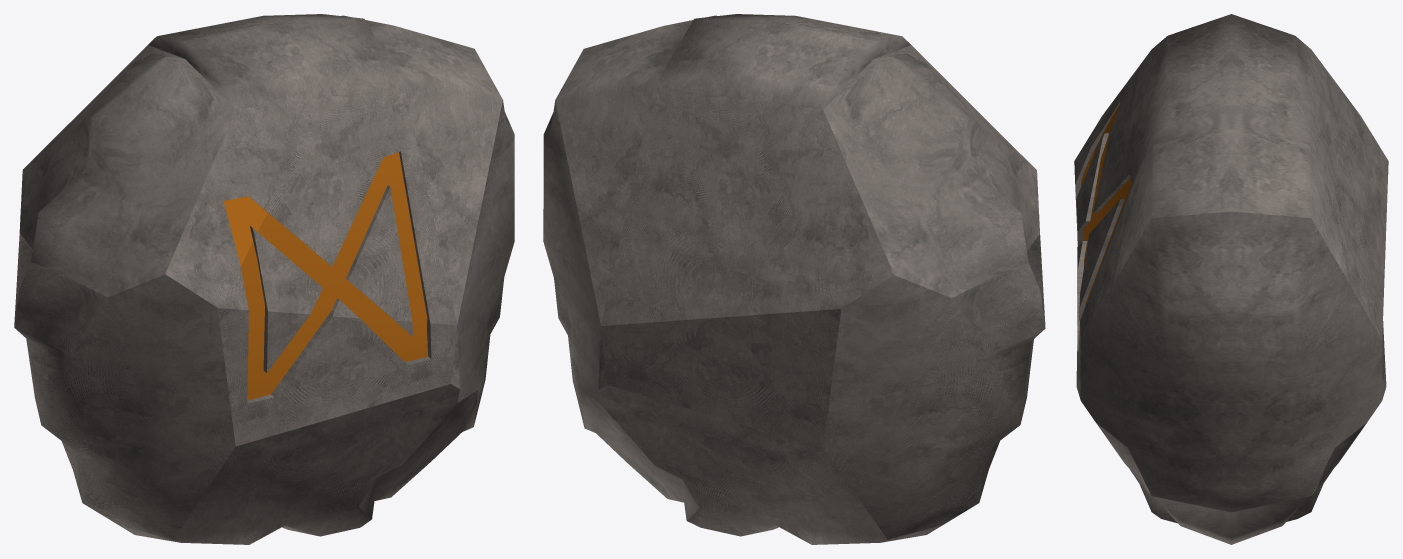
Rendered from Defense_DefensivePower.fbx.
3 renders of one model, left to right at view 1: azimuth 30°, elevation 25°; view 2: azimuth 150°, elevation 25°; view 3: azimuth 270°, elevation 25°, orthographic. The views are drawn at different scales.
Parts seen in each view (by area): view 1: Defense_D Rune; view 2: Defense_D Rune; view 3: Defense_D Rune.
Part boxes in pixels (x1,y1,x2,y2): Defense_D Rune: [14, 14, 514, 544]; Defense_D Rune: [543, 14, 1045, 544]; Defense_D Rune: [1074, 14, 1388, 544].
Size of the model in its own units: 60.15 by 60.84 by 37.36.
Materials: 1 (1 with a texture image).
